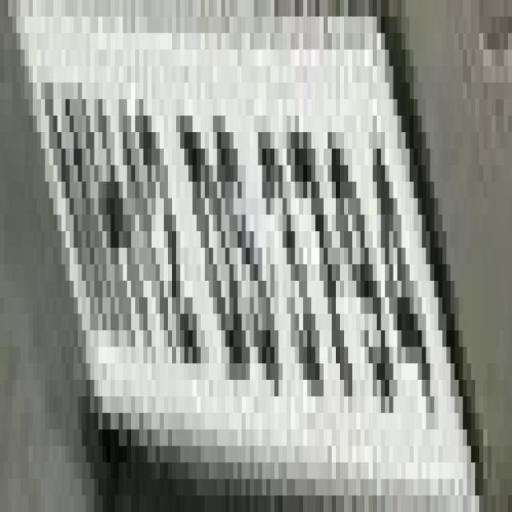number plate: (0, 16, 483, 496)
